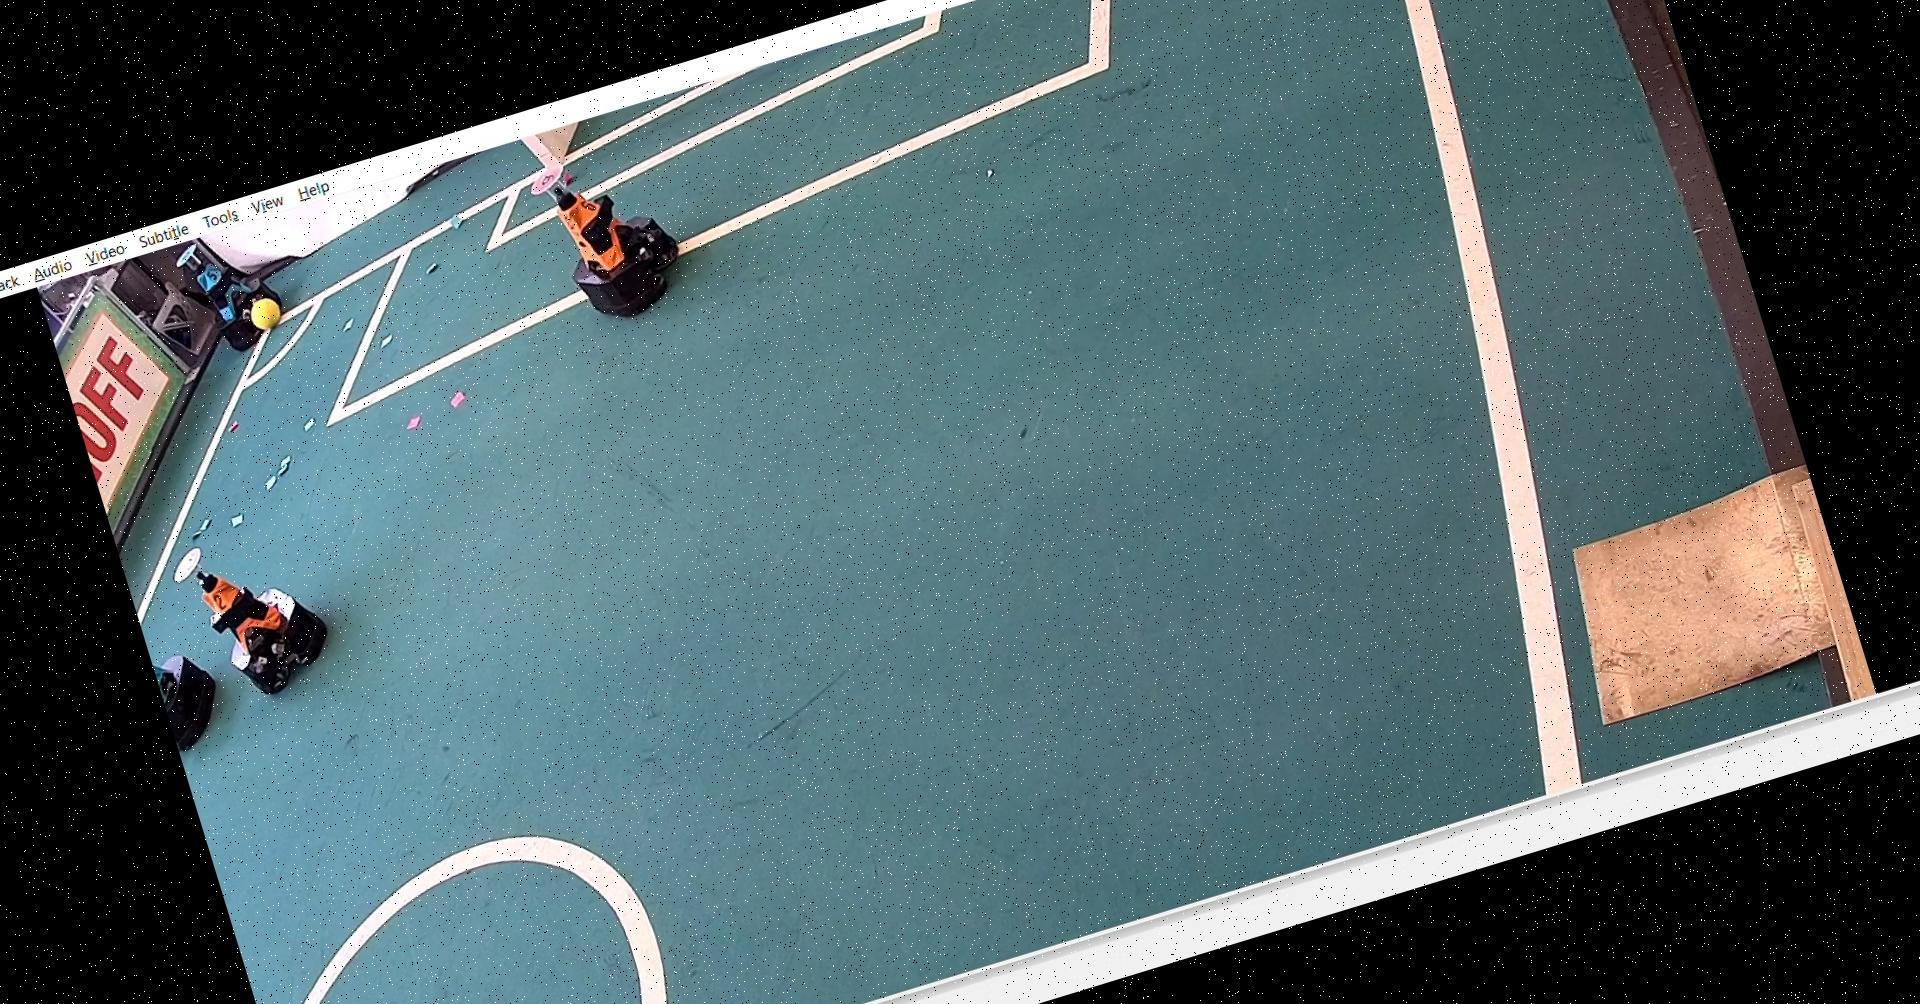Ball: (244, 289, 291, 341)
Team_Blue: (169, 223, 300, 369)
Team_Red: (526, 132, 702, 334), (164, 514, 344, 708)
